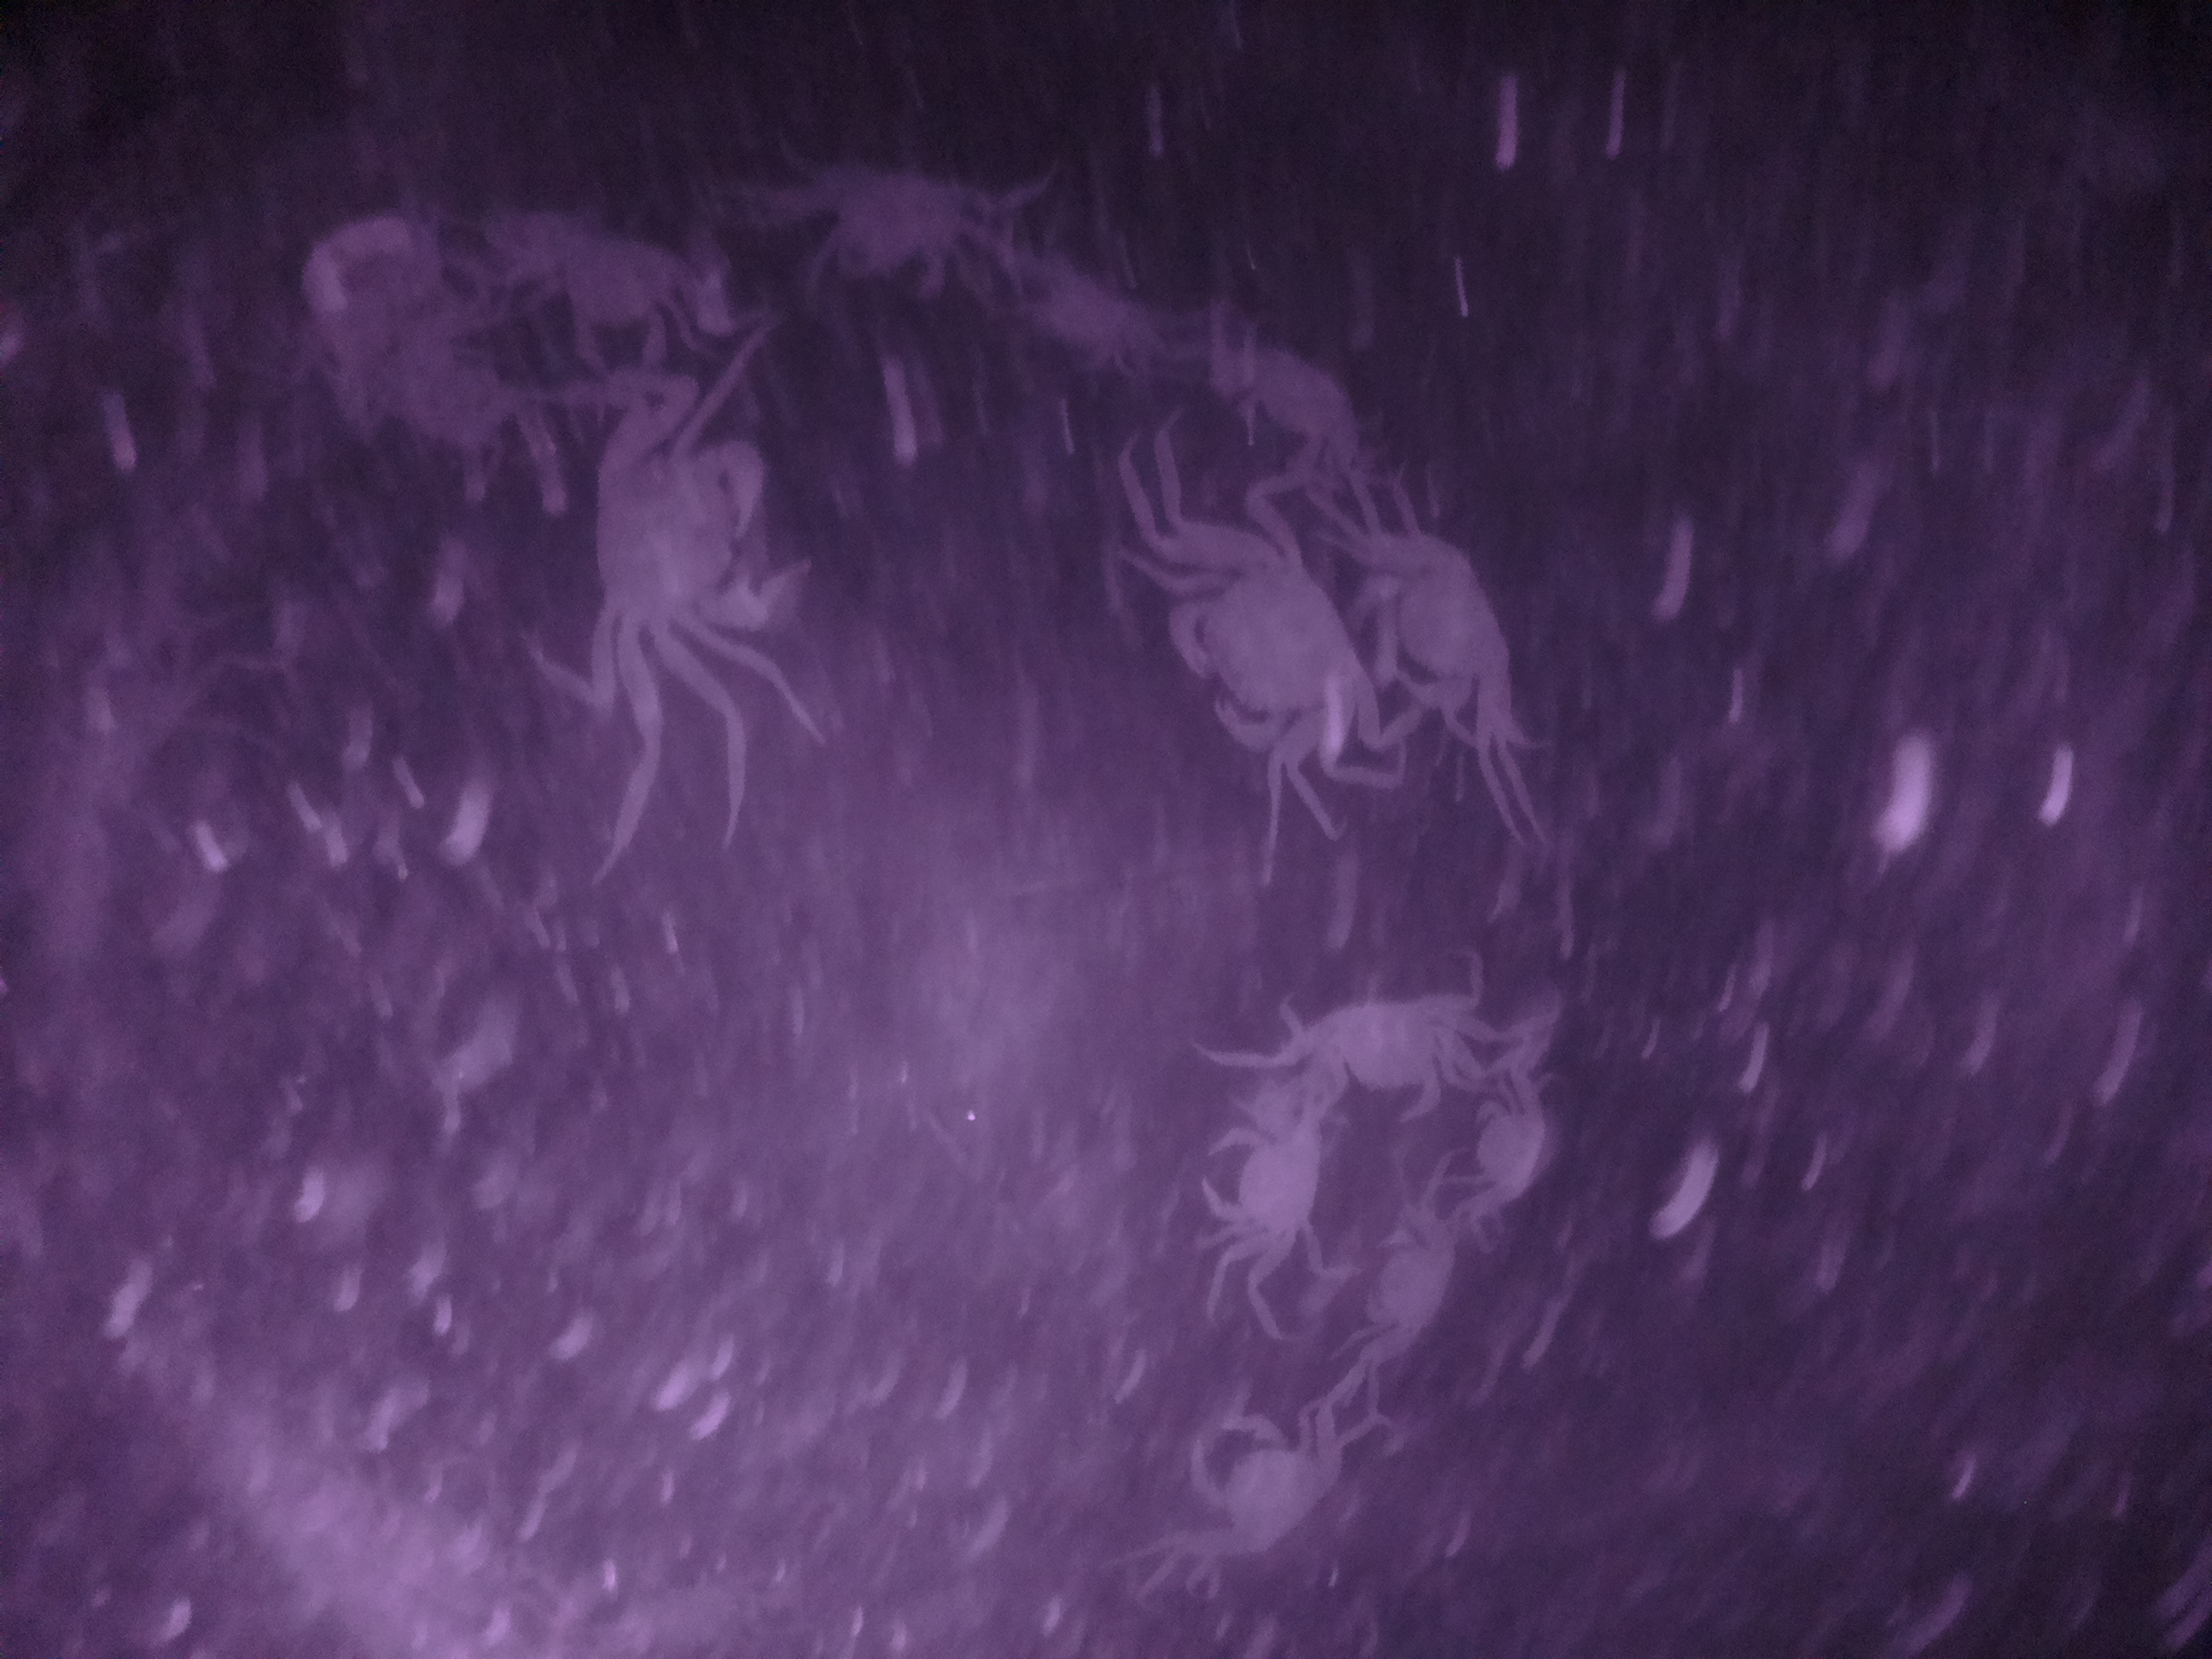Crab: (1136, 523, 1393, 767), (1350, 498, 1545, 784), (1271, 965, 1479, 1121), (1169, 1094, 1343, 1274), (1176, 1378, 1334, 1572), (1341, 1188, 1458, 1368)
